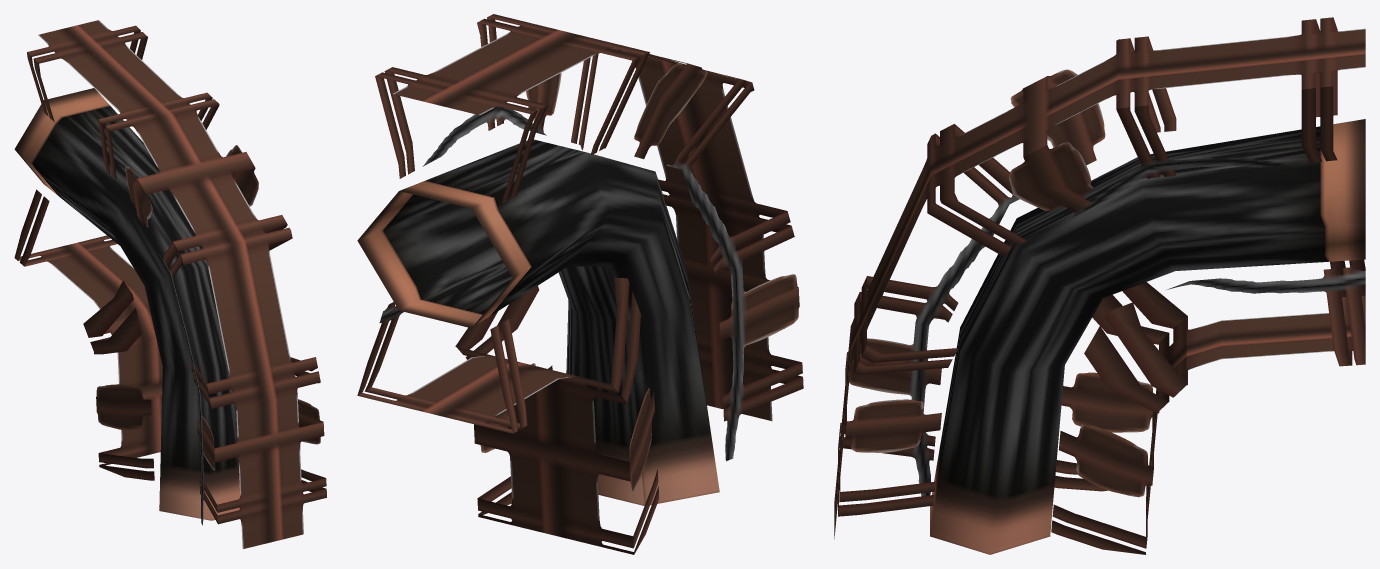
The model's file is cables_angle.fbx.
3 views of the same model, side by side, from view 1: azimuth 30°, elevation 25°; view 2: azimuth 150°, elevation 25°; view 3: azimuth 270°, elevation 25° (orthographic). The views are drawn at different scales.
Visible parts, largest first — view 1: cables_b_angle, cables_angle; view 2: cables_b_angle, cables_angle; view 3: cables_b_angle, cables_angle.
Boxes of the visible parts, x1,y1,x2,y2 form: cables_b_angle: (14, 20, 326, 548); cables_angle: (14, 88, 239, 520); cables_b_angle: (357, 14, 803, 554); cables_angle: (357, 139, 719, 505); cables_b_angle: (834, 17, 1365, 554); cables_angle: (930, 119, 1365, 554).
Bounding box in the file's own units: 0.5241 × 1.67 × 1.71.
